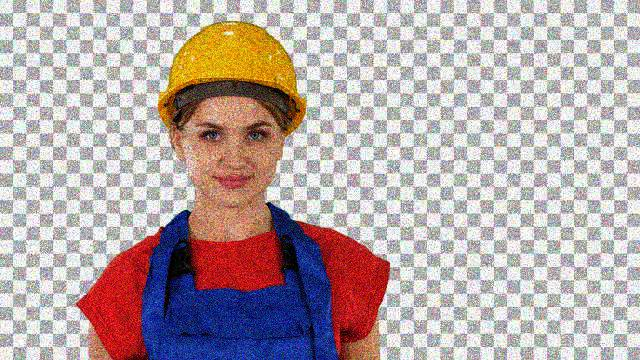helmet: (157, 19, 308, 207)
